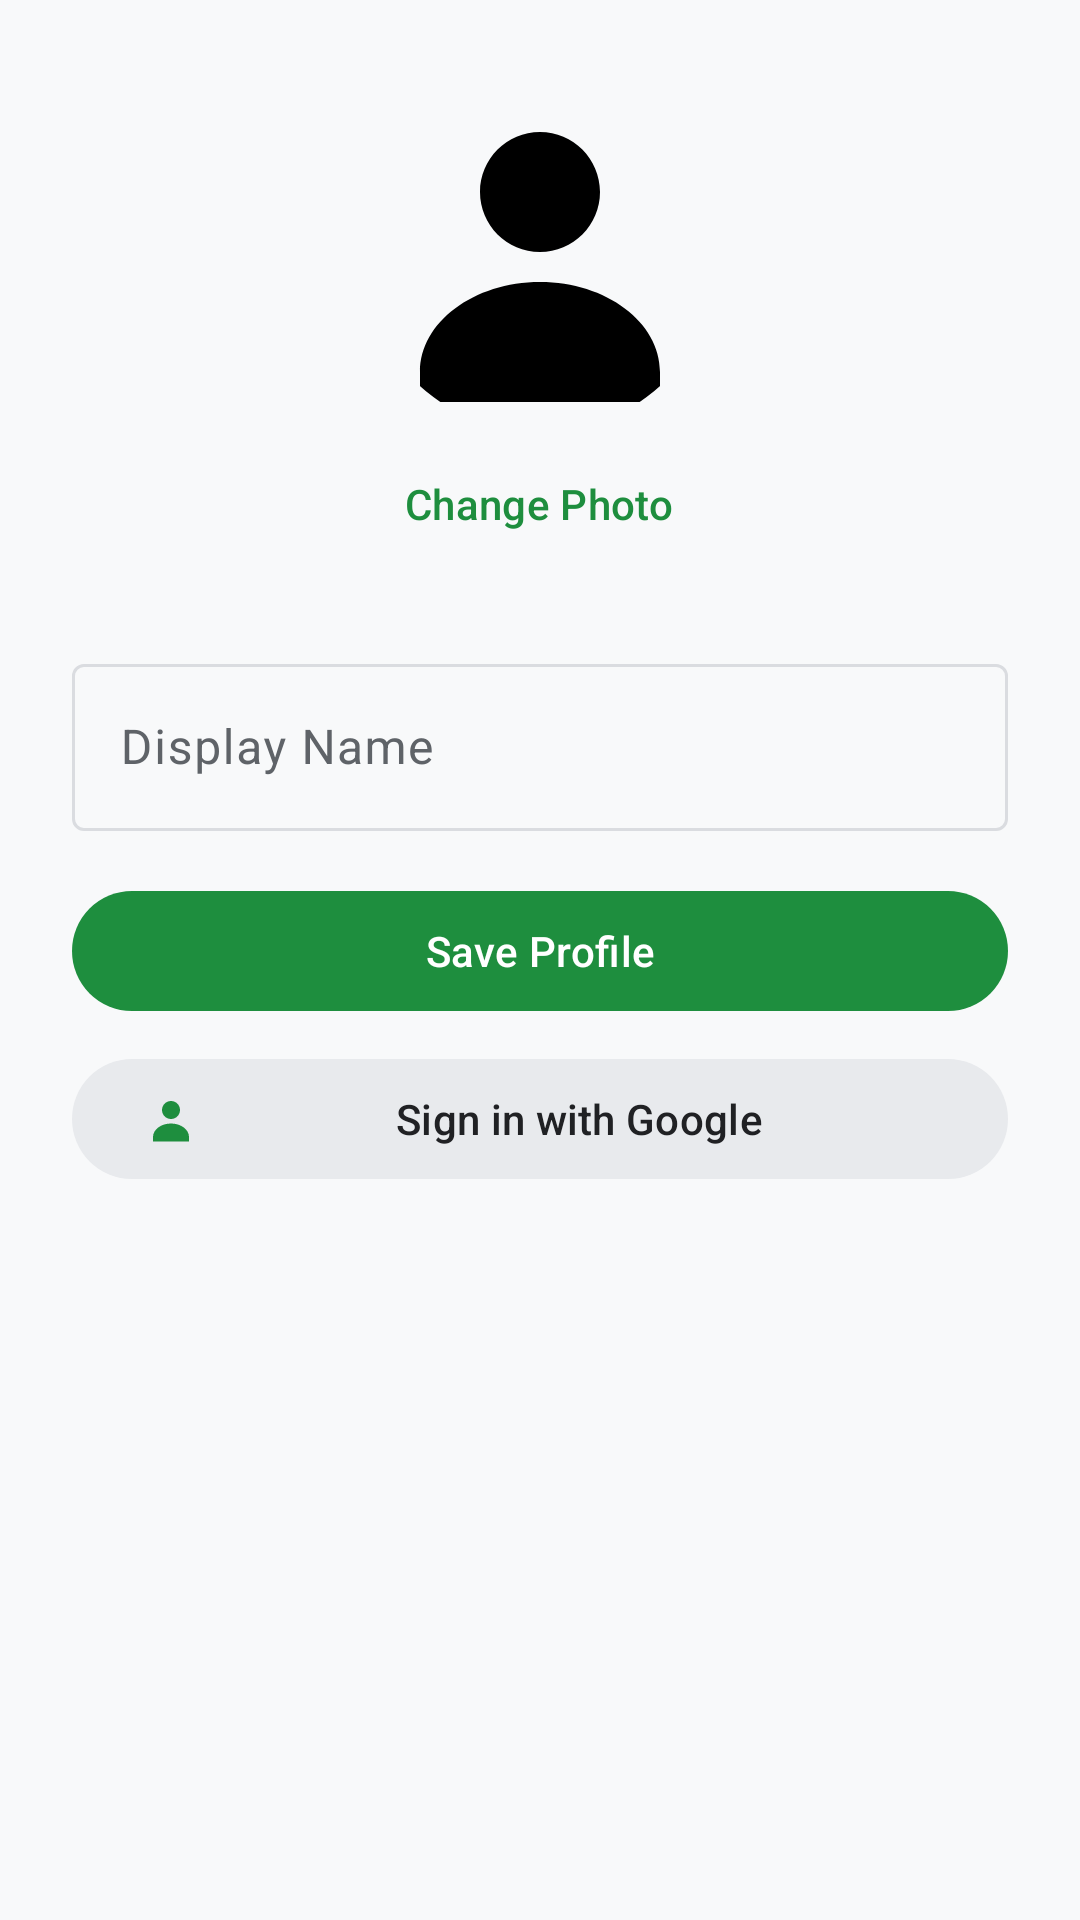

Icon bounding boxes for this 1080*1920 phone screenshot, format region(x1, y1, x2, y2):
person: region(420, 132, 660, 402)
